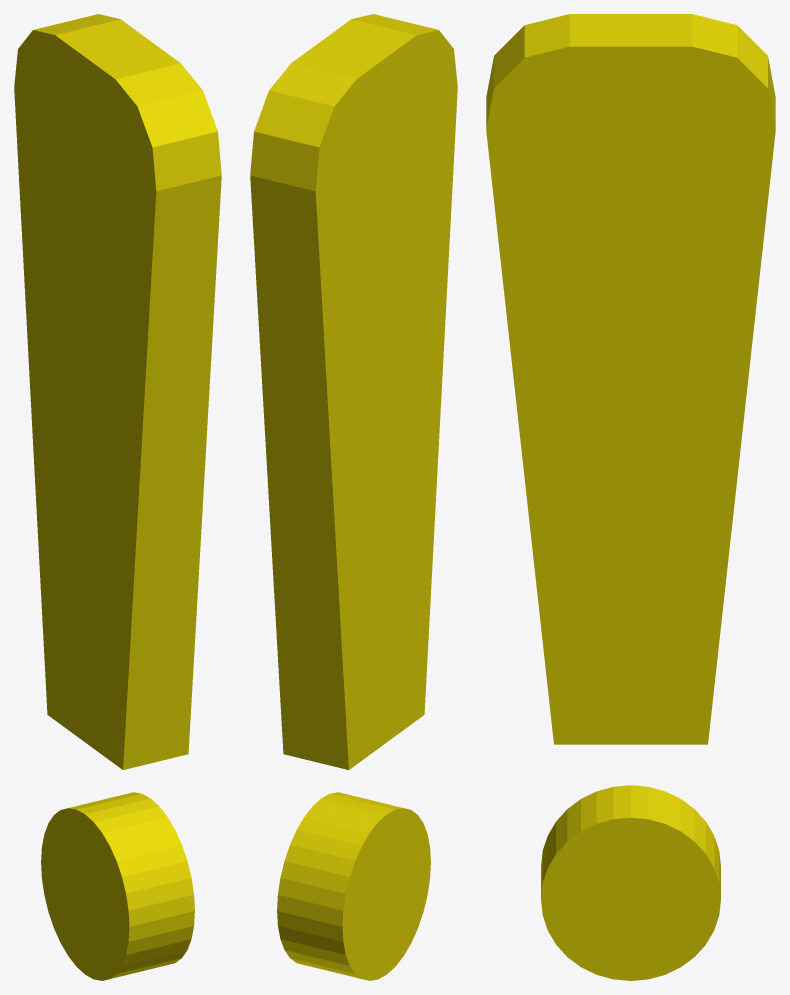
Rendered from exl_mark.glb.
The picture shows the model from 3 angles, left to right: view 1: azimuth 30°, elevation 25°; view 2: azimuth 150°, elevation 25°; view 3: azimuth 270°, elevation 25°; orthographic projection.
Visible parts, largest first — view 1: Cube; view 2: Cube; view 3: Cube.
Part boxes in pixels (left/top/right/bottom): Cube: left=14, top=14, right=221, bottom=980; Cube: left=250, top=14, right=457, bottom=980; Cube: left=486, top=14, right=775, bottom=980.
Bounding box in the file's own units: 0.2 × 2.68 × 0.752.
